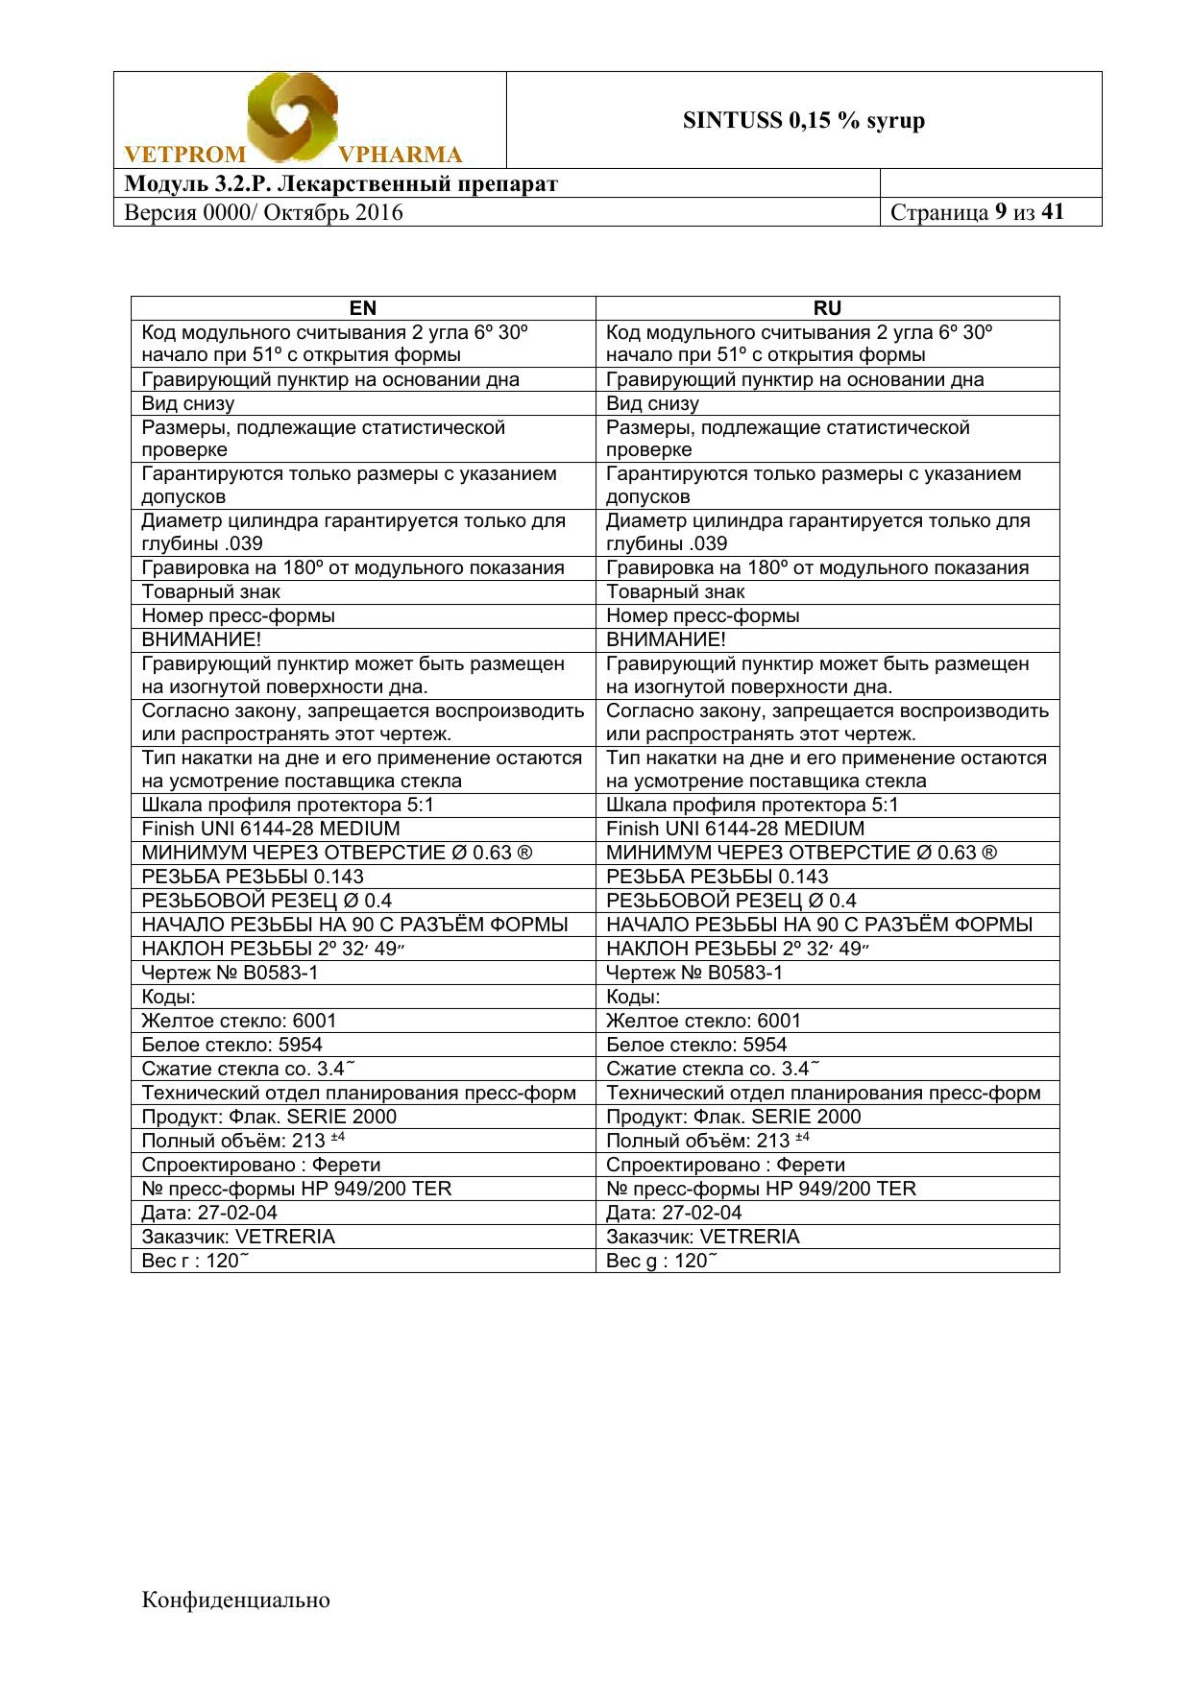full_lined: (129, 295, 1060, 1273)
merged_cells: (114, 71, 1103, 228)
